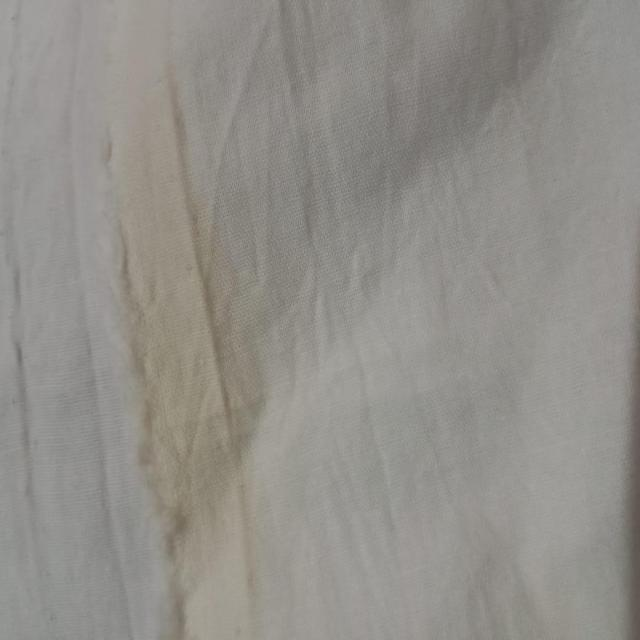stain: (104, 68, 262, 634)
